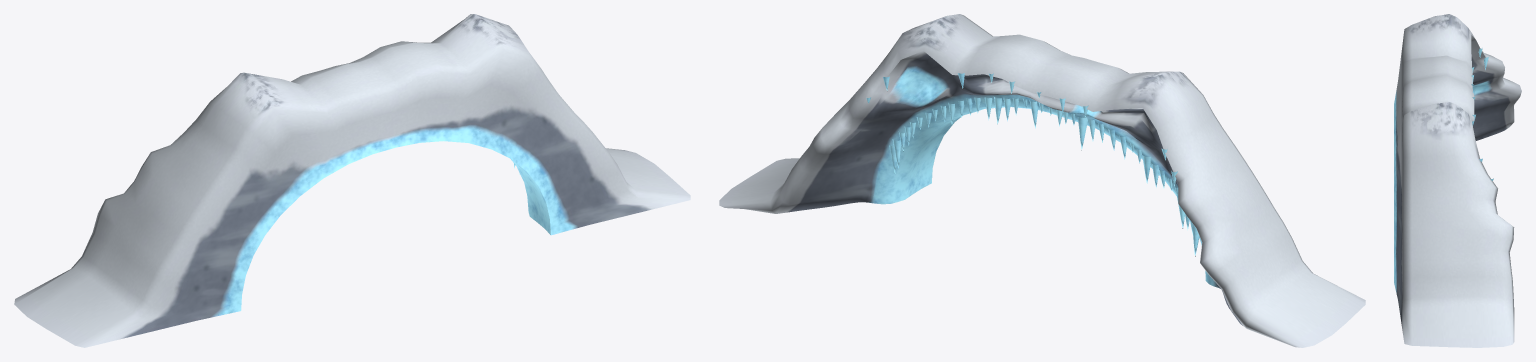
The model's file is SM_IceCave_Entrance.glb.
The picture shows the model from 3 angles, left to right: view 1: azimuth 30°, elevation 25°; view 2: azimuth 150°, elevation 25°; view 3: azimuth 270°, elevation 25°; orthographic projection. The views are drawn at different scales.
Parts seen in each view (by area): view 1: SM_IceCave_Entrance; view 2: SM_IceCave_Entrance; view 3: SM_IceCave_Entrance.
Boxes of the visible parts, bbox=[...] form: SM_IceCave_Entrance: bbox=[14, 14, 690, 347]; SM_IceCave_Entrance: bbox=[719, 14, 1365, 347]; SM_IceCave_Entrance: bbox=[1394, 14, 1521, 347].
Size of the model in its own units: 32.42 by 10.42 by 7.15.
1 material, 1 textured.
